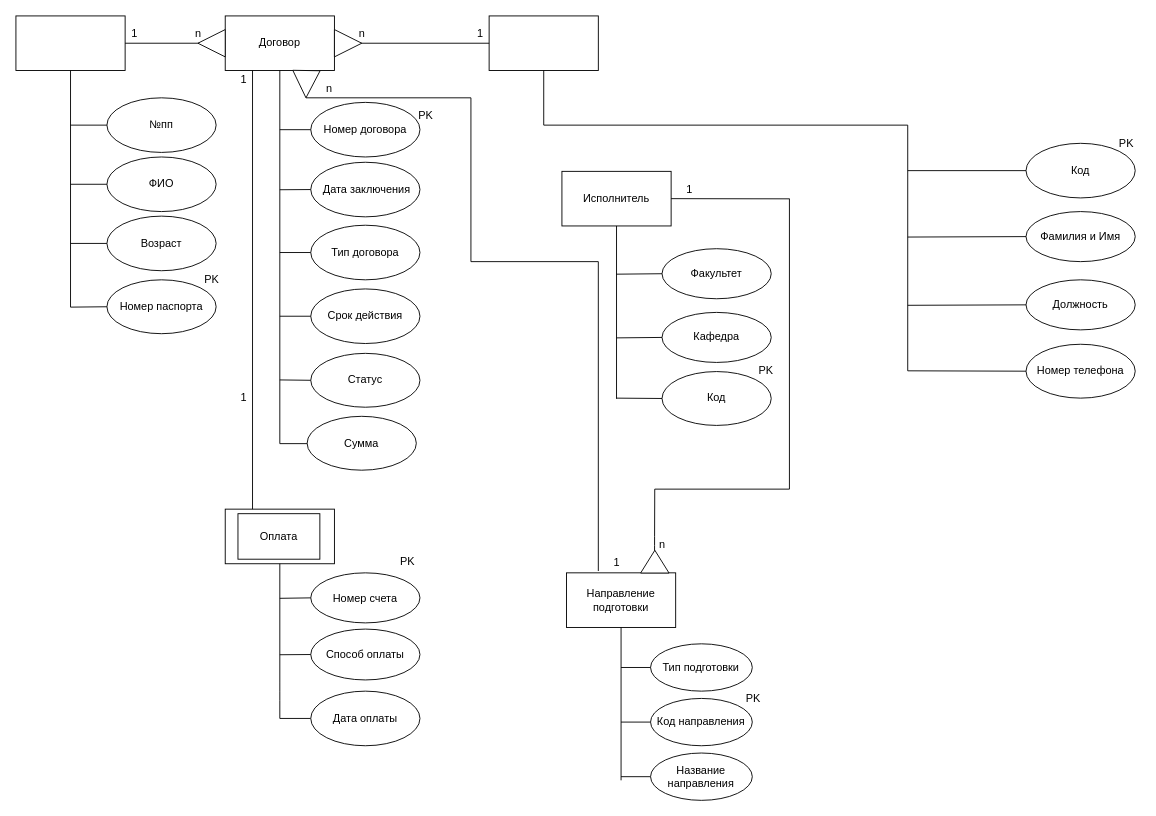
Some shapes in this 1156 by 816 pixel diagram are drawn without their labels. The centre of each missing label's shape, as x and y in pixels:
Заказчик: pixel 70 43
Сотрудник: pixel 543 43
